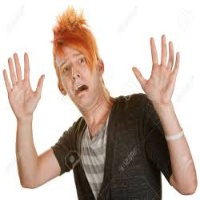ring: (7, 56, 17, 89), (166, 39, 175, 75)
